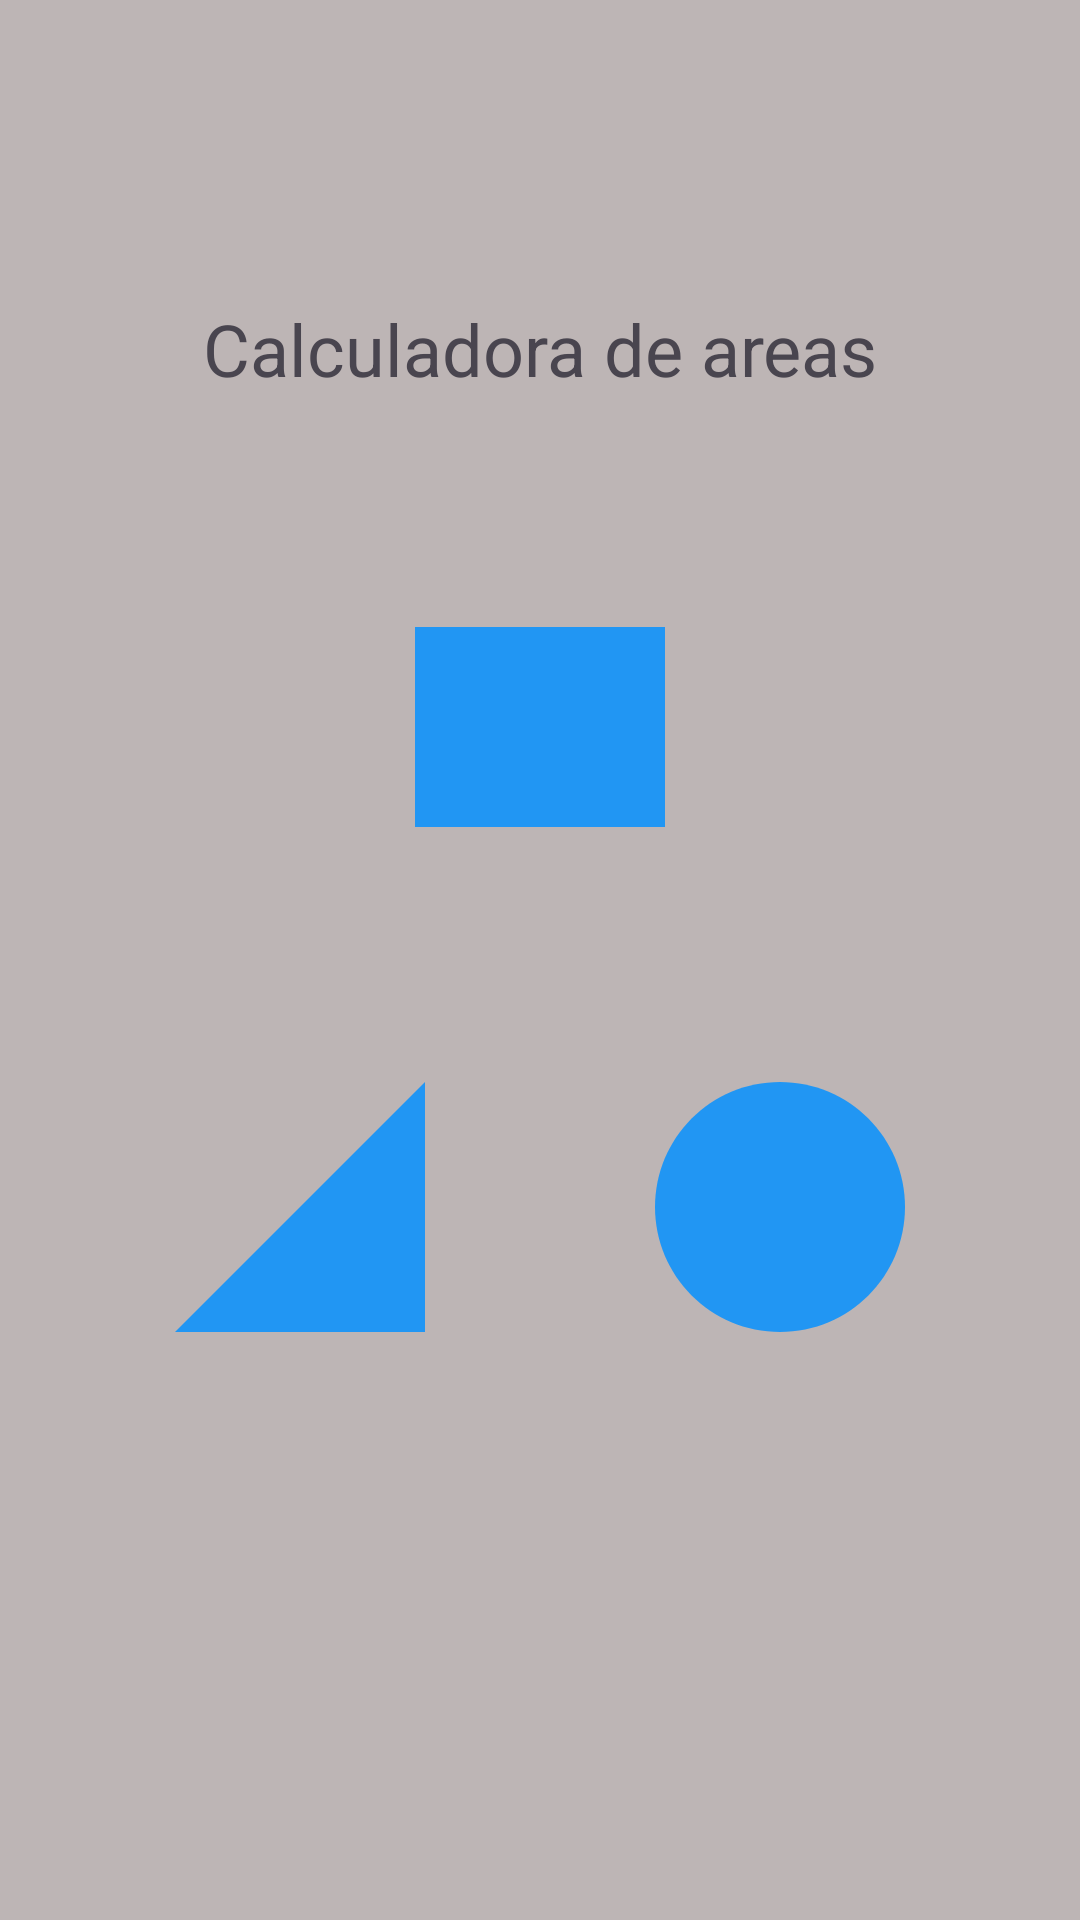

Icons on this 1080x1920 Android screen, each with the point to tap as (x=x, y=y):
Figura de un circulo: (x=780, y=1207)
Figura de un triangulo: (x=300, y=1207)
